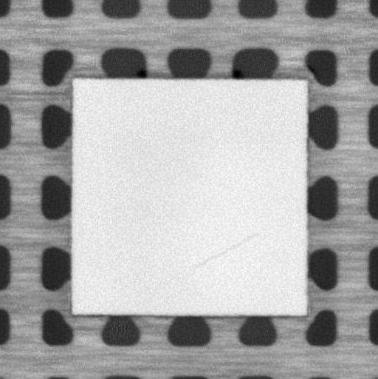DIE_CRACK: (192, 232, 260, 274)
